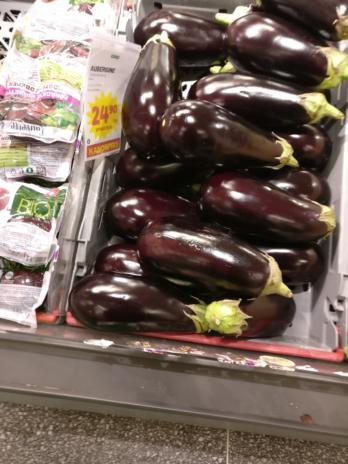Brinjal: (76, 4, 348, 325)
